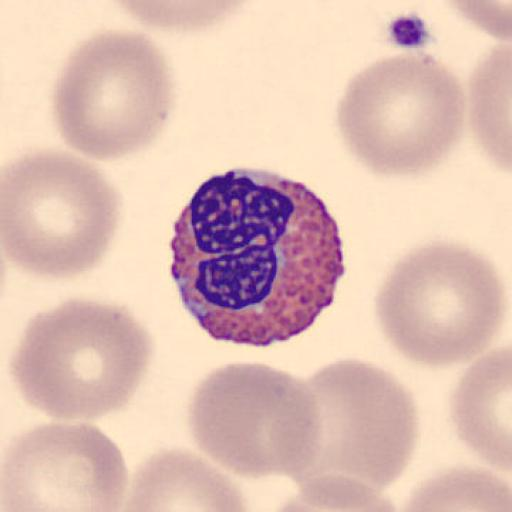RBC: (279, 355, 421, 505), (9, 295, 153, 424), (372, 239, 506, 372), (334, 50, 467, 180), (50, 27, 176, 162), (185, 360, 321, 481), (2, 147, 122, 280), (2, 420, 130, 512), (118, 444, 252, 512), (448, 347, 512, 468), (468, 41, 512, 175), (104, 0, 257, 37), (263, 472, 404, 512), (395, 464, 512, 512), (436, 0, 512, 42), (442, 0, 511, 24)
WBC: (166, 165, 348, 348)
